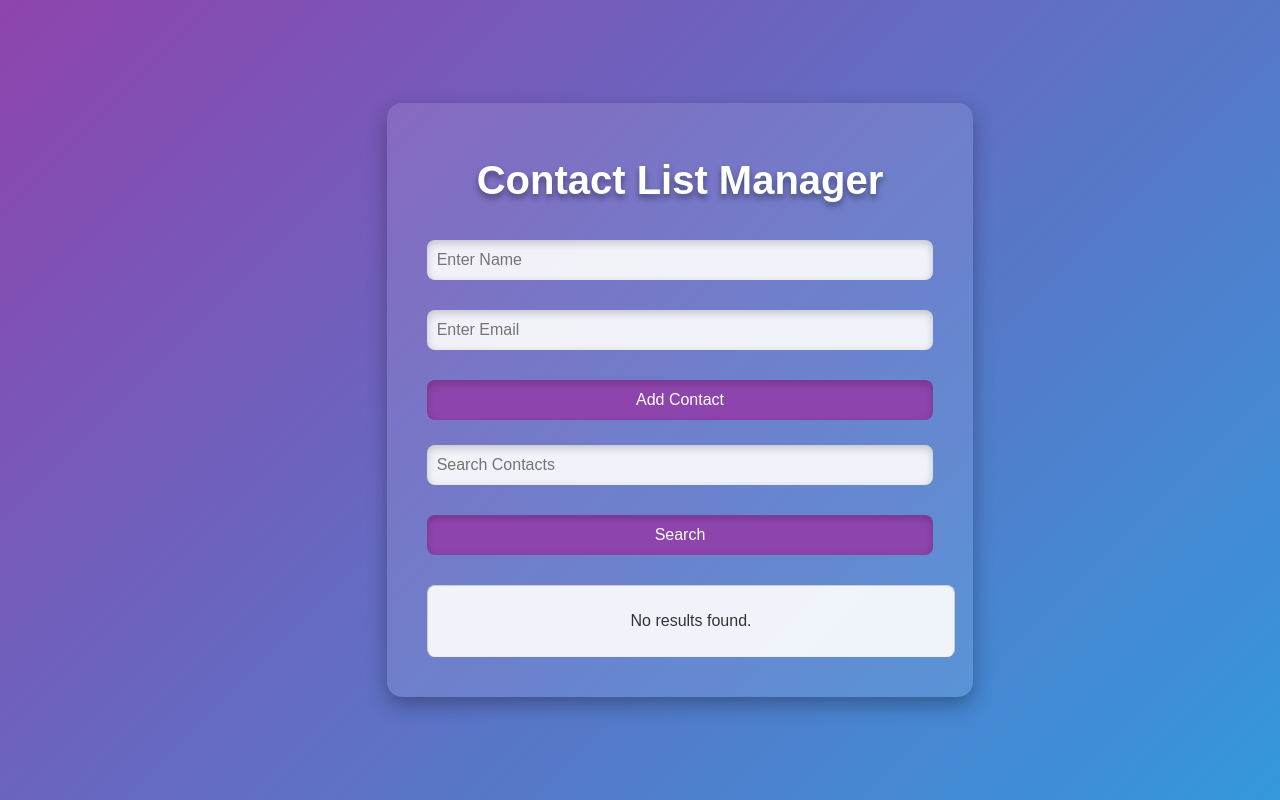
Scenario: adds a contact and displays it in the list
This screenshot has width=1280, height=800.
# Fill in the form
Step 1. Type "New Contact" into the field with placeholder "Enter Name" → (680, 260), box left=427, top=240, right=933, bottom=280
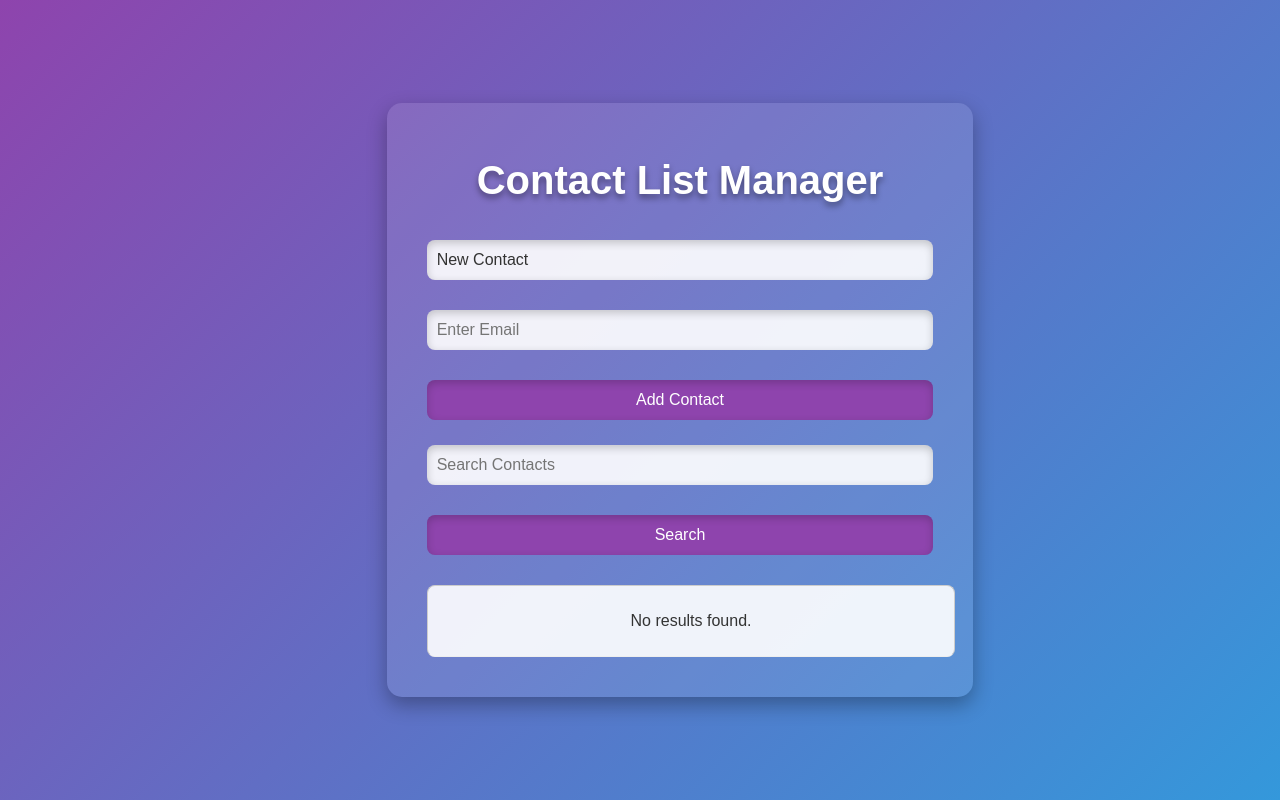
Step 2. Type "new@example.com" into the field with placeholder "Enter Email" → (680, 330), box left=427, top=310, right=933, bottom=350
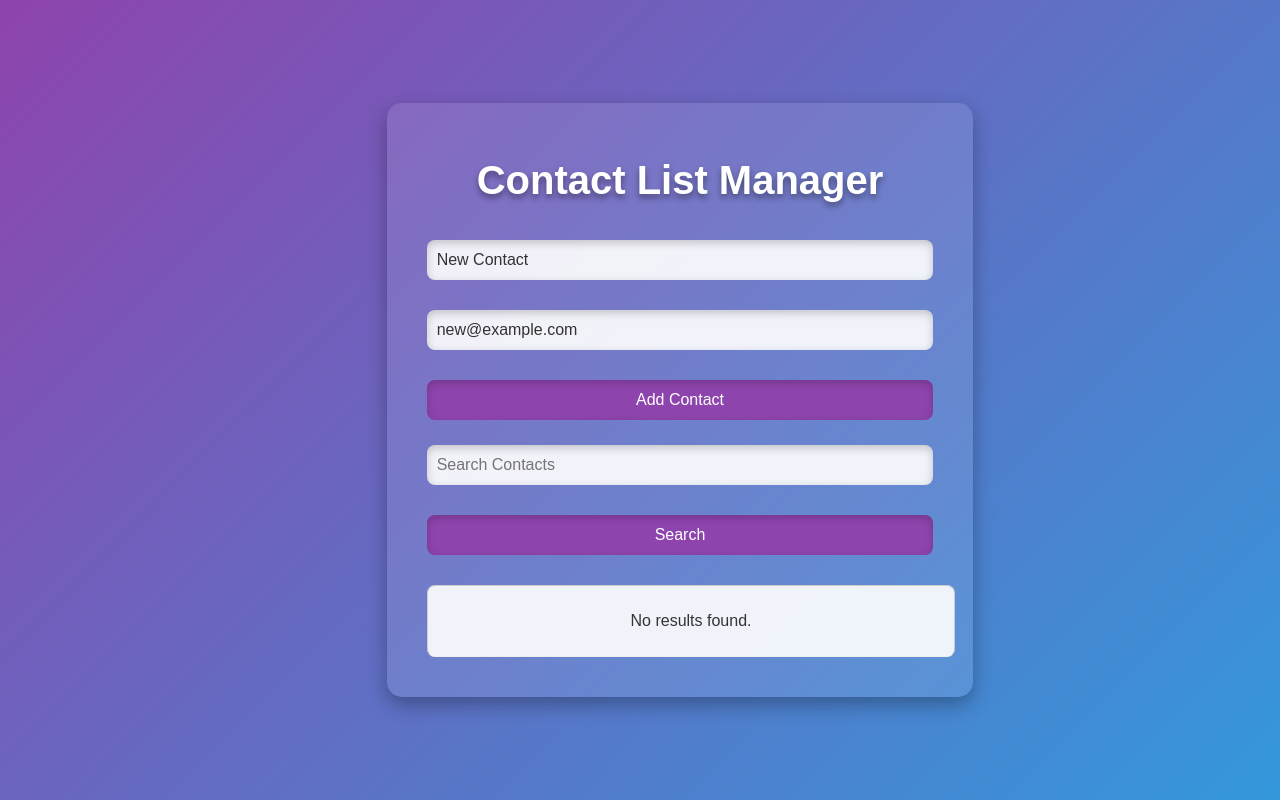
# Click the "Add Contact" button
Step 3. Click the button "Add Contact" → (680, 400), box left=427, top=380, right=933, bottom=420
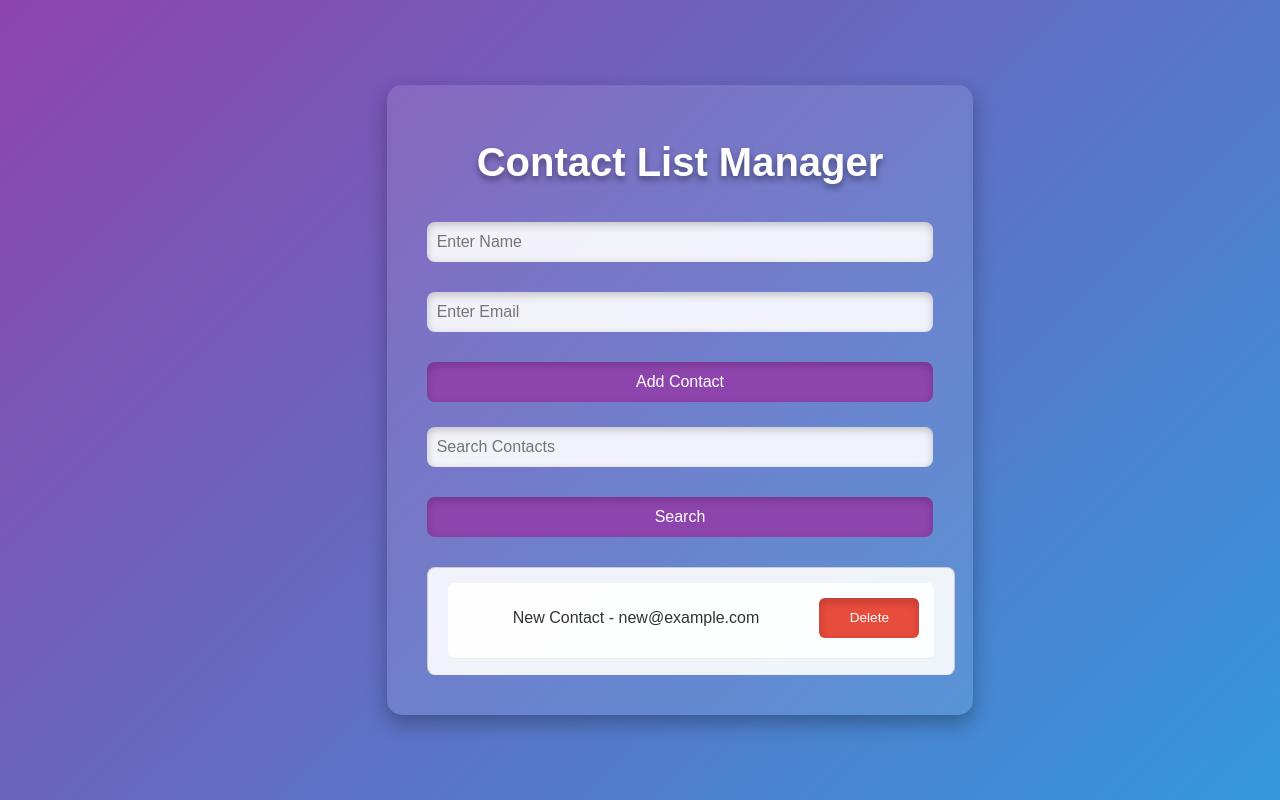
Now the text "New Contact - new@example.com" is shown, box left=513, top=609, right=759, bottom=626
